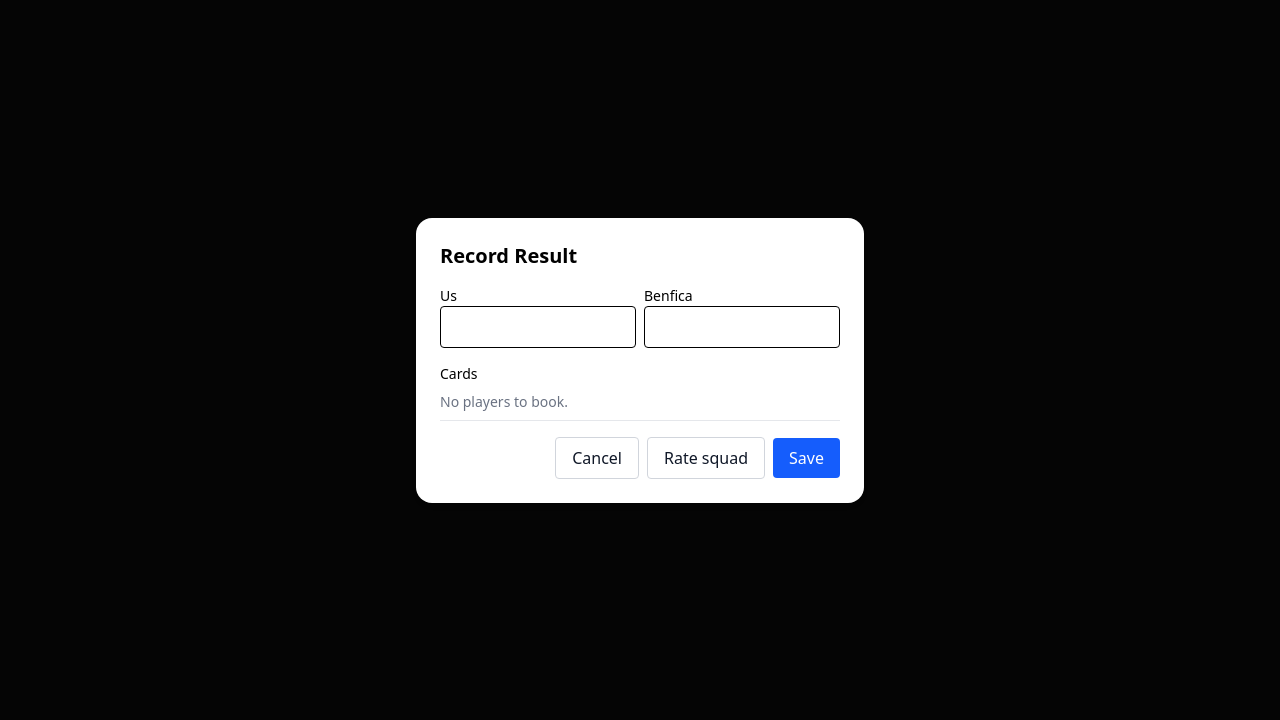
blocks submission with a message when a score is left empty (AC GAME-06.2)
Expected: the heading "Cards" is shown, [440,364,478,382]
Type "2" into the field labelled "Us". click: (538, 326)
box: [440,306,636,348]
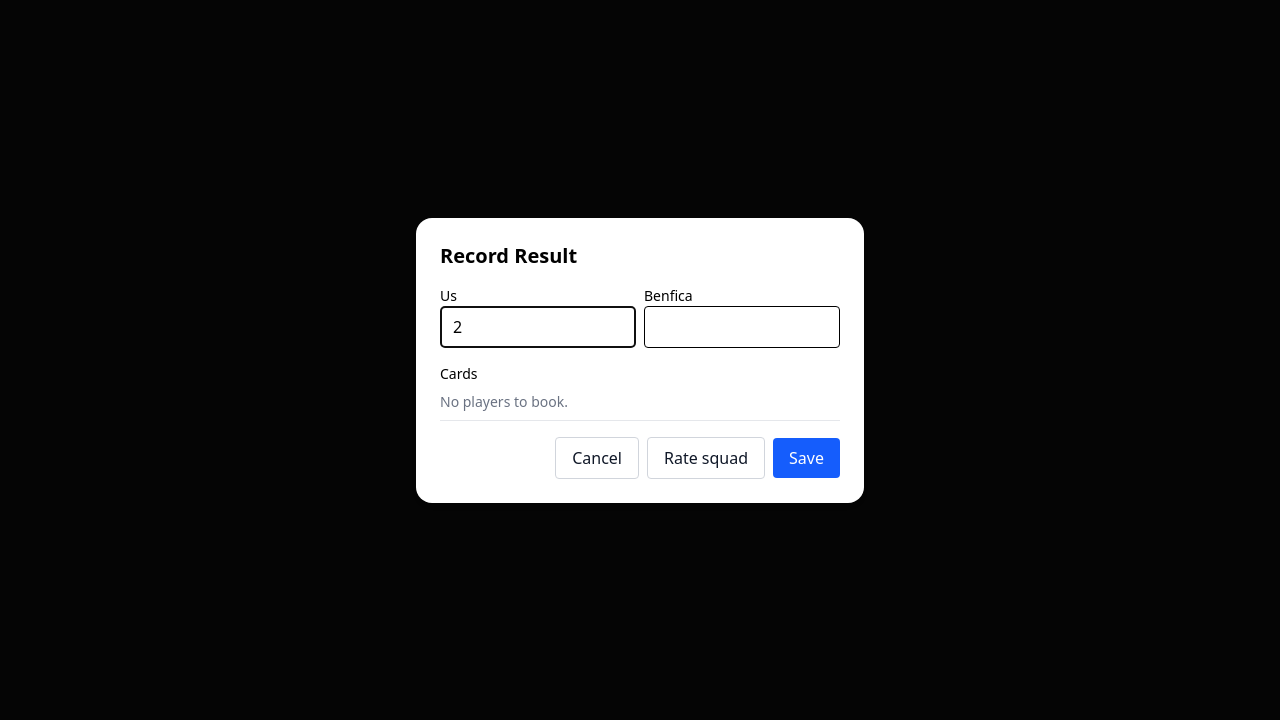
Click the button "Save". click: (807, 458)
box: [773,438,840,478]
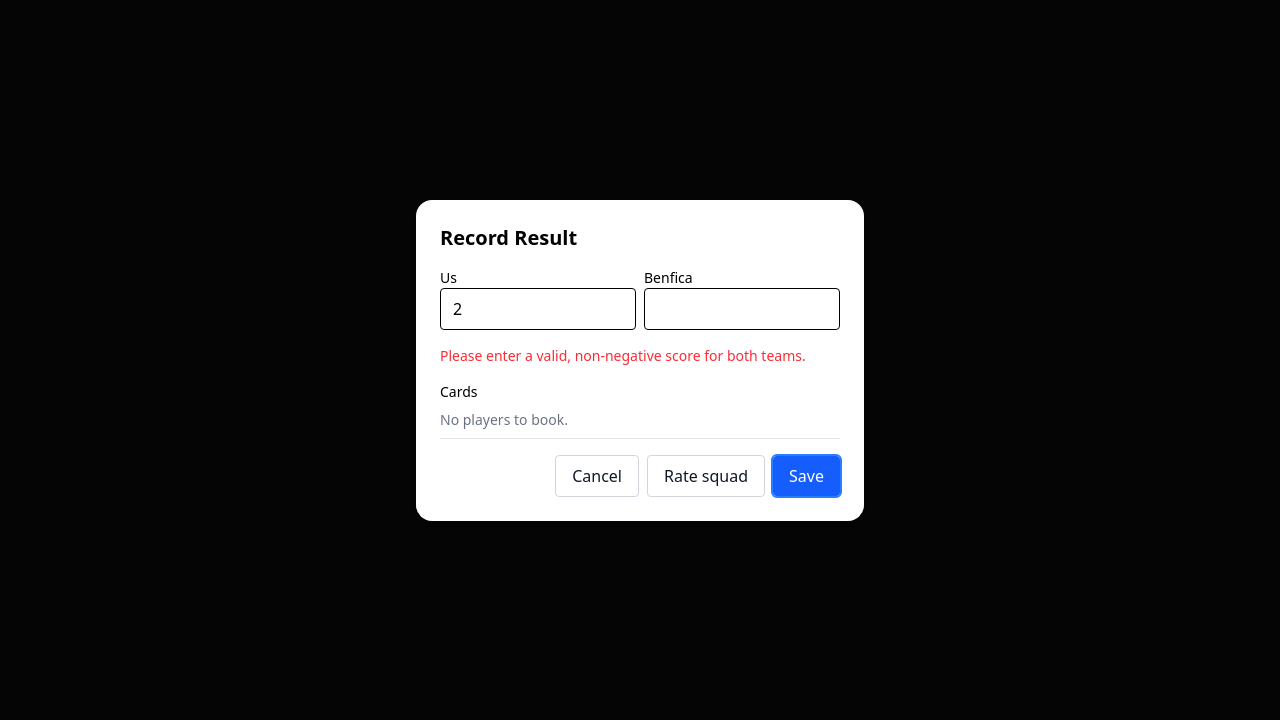
Expected: the text "Please enter a valid, non-negative score for both teams." is shown, [440,346,840,366]
